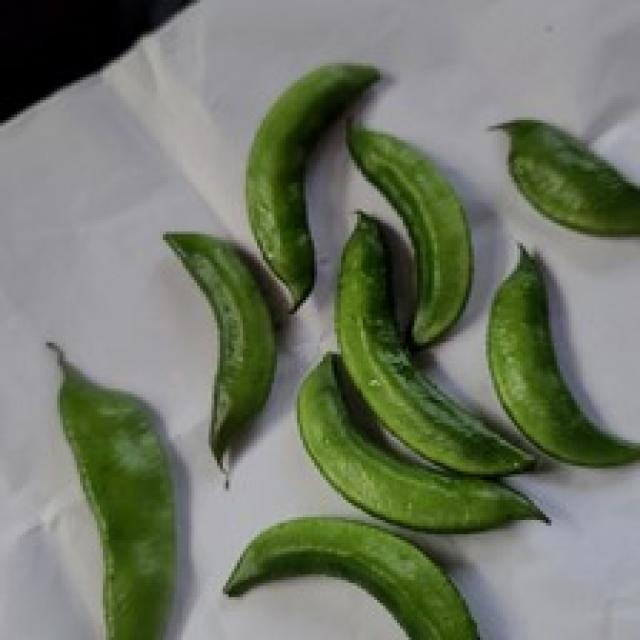Bean: (332, 209, 537, 477), (294, 349, 549, 534), (43, 340, 177, 637), (243, 57, 380, 312), (486, 240, 637, 466), (220, 514, 489, 637), (343, 114, 471, 349), (160, 228, 274, 483), (486, 114, 637, 237)
